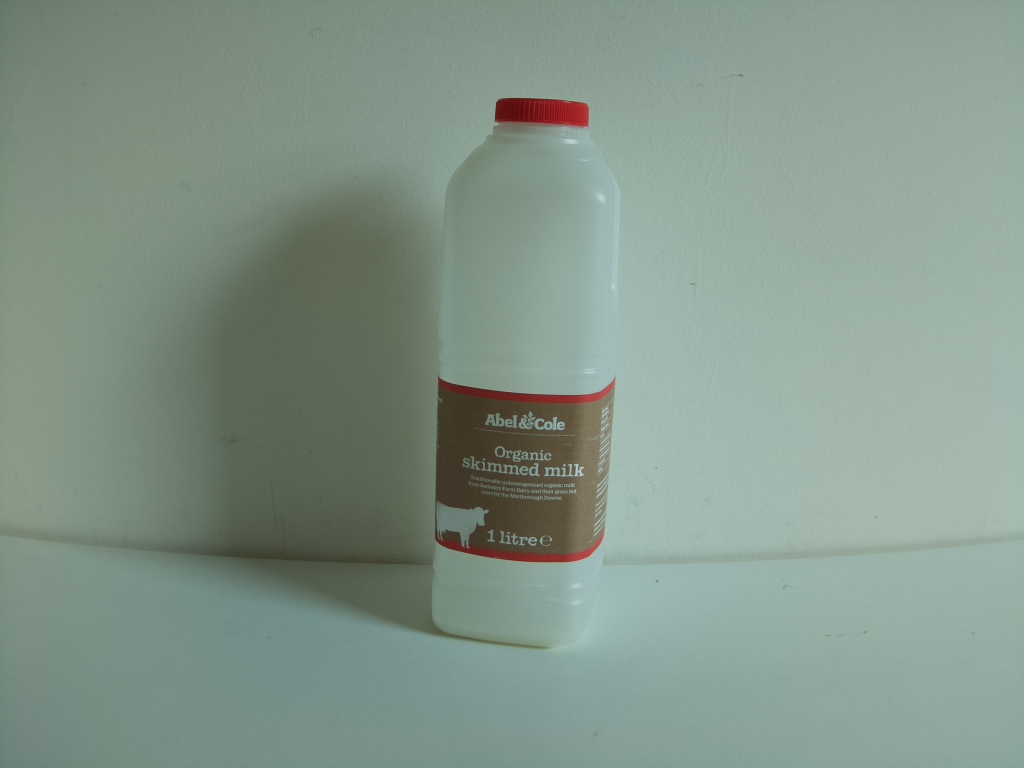milk: (431, 96, 626, 654)
